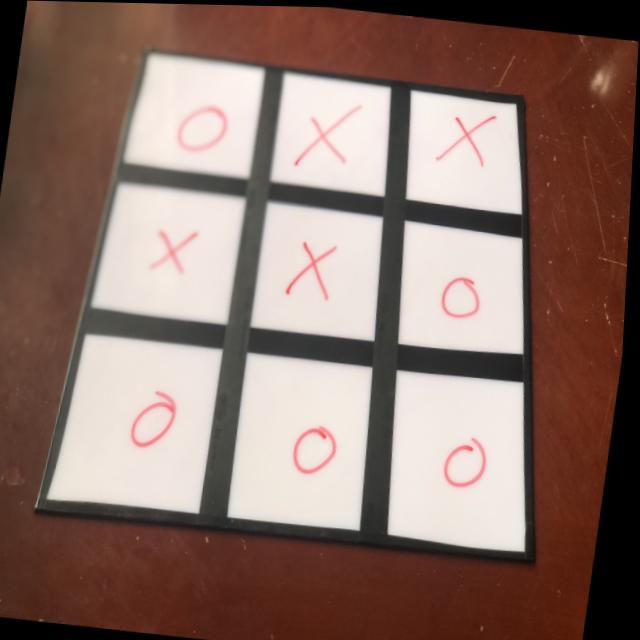o: (123, 384, 188, 461), (442, 429, 498, 496), (174, 95, 235, 154), (291, 419, 349, 478), (438, 267, 491, 325)
table: (44, 43, 594, 564)
x: (296, 95, 370, 174), (435, 106, 497, 169), (287, 235, 343, 303), (151, 224, 205, 270)
